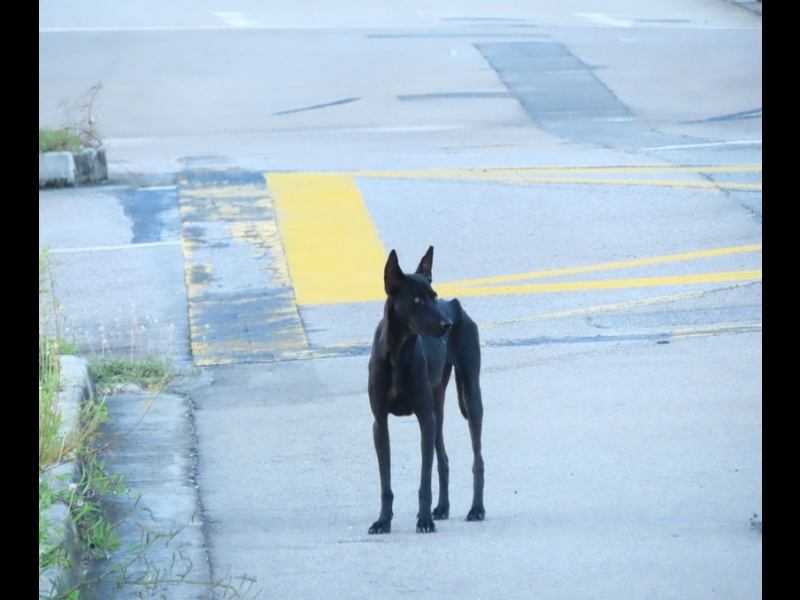dog: (364, 245, 492, 539)
